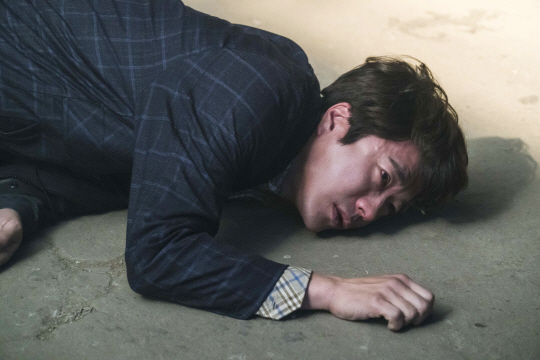collapsed: (3, 3, 540, 356)
